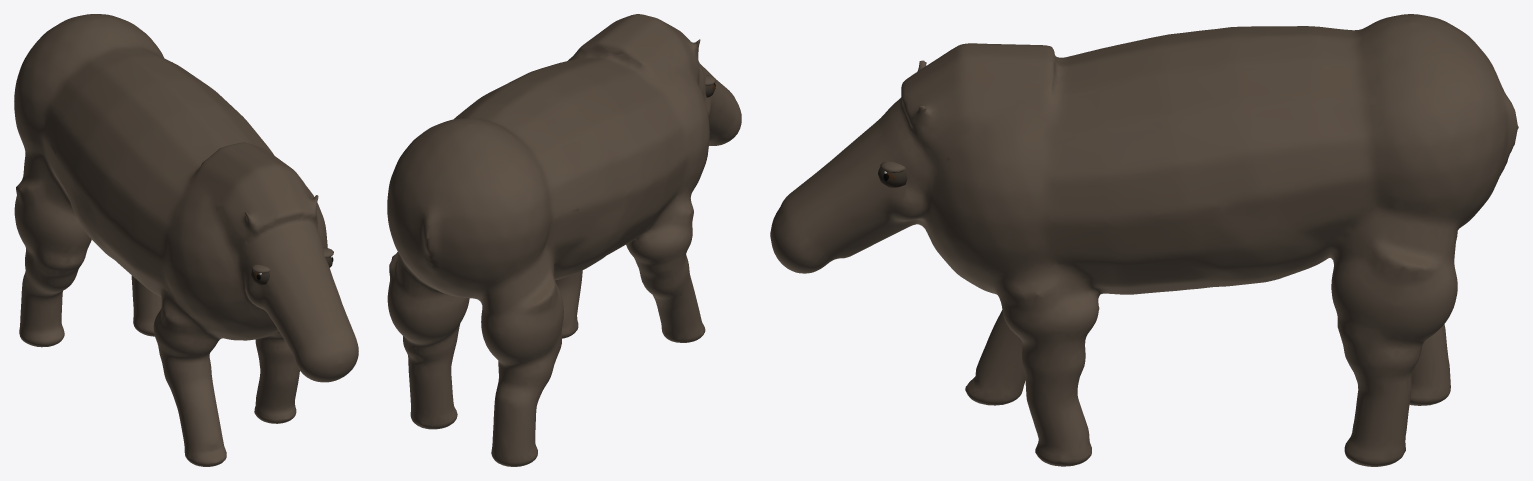
File: ToxodonPlatensis.fbx
The picture shows the model from 3 angles, left to right: view 1: azimuth 30°, elevation 25°; view 2: azimuth 150°, elevation 25°; view 3: azimuth 270°, elevation 25°; orthographic projection. The views are drawn at different scales.
Visible parts, largest first — view 1: ToxodonPlatensis; view 2: ToxodonPlatensis; view 3: ToxodonPlatensis.
Part boxes in pixels (<box>): ToxodonPlatensis: <box>14,14,358,466</box>; ToxodonPlatensis: <box>387,14,741,466</box>; ToxodonPlatensis: <box>770,14,1518,466</box>.
Bounding box in the file's own units: 0.6238 × 1.16 × 1.93.
